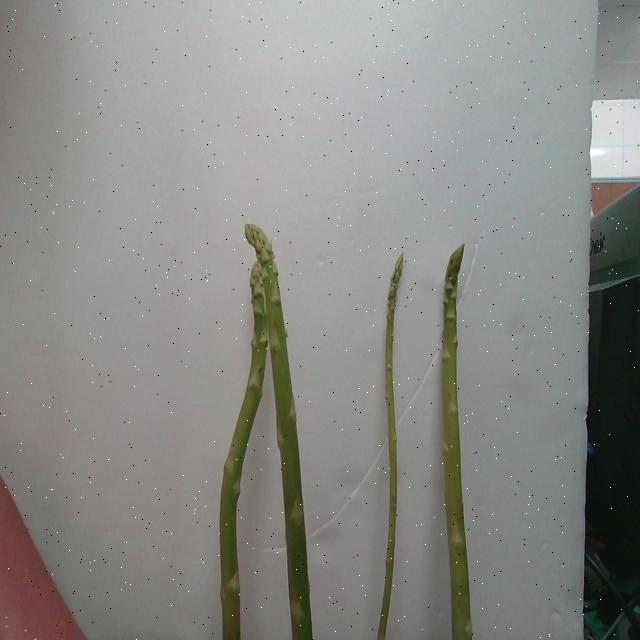aspargus: (221, 263, 269, 640), (440, 248, 473, 640), (376, 253, 406, 640)
